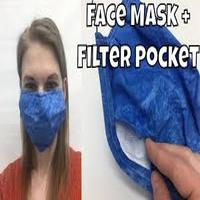flu mask: (17, 88, 67, 155)
